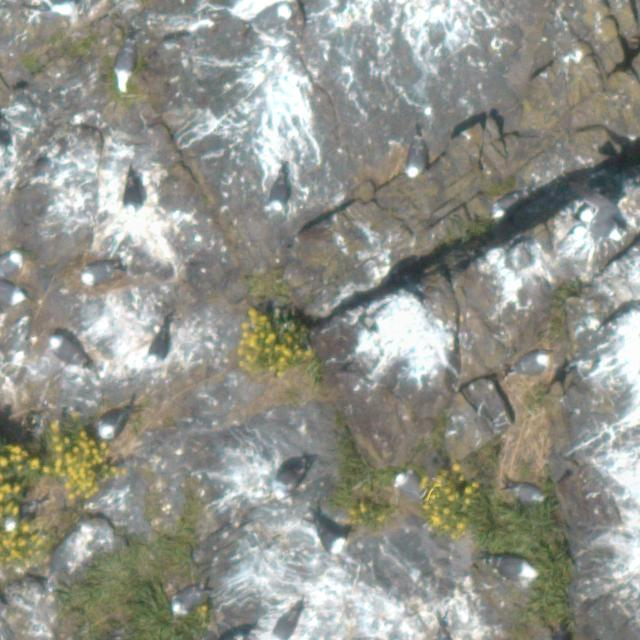umineko: (274, 457, 306, 502), (314, 515, 348, 556), (49, 337, 91, 369), (114, 47, 138, 93), (147, 322, 171, 363), (124, 174, 142, 217), (496, 557, 533, 577), (101, 410, 128, 437), (514, 351, 546, 372), (396, 472, 422, 497), (174, 587, 203, 609), (81, 263, 112, 283), (270, 178, 286, 214), (407, 144, 425, 176), (512, 484, 541, 501), (1, 286, 25, 306), (494, 195, 519, 214), (1, 253, 21, 276)
